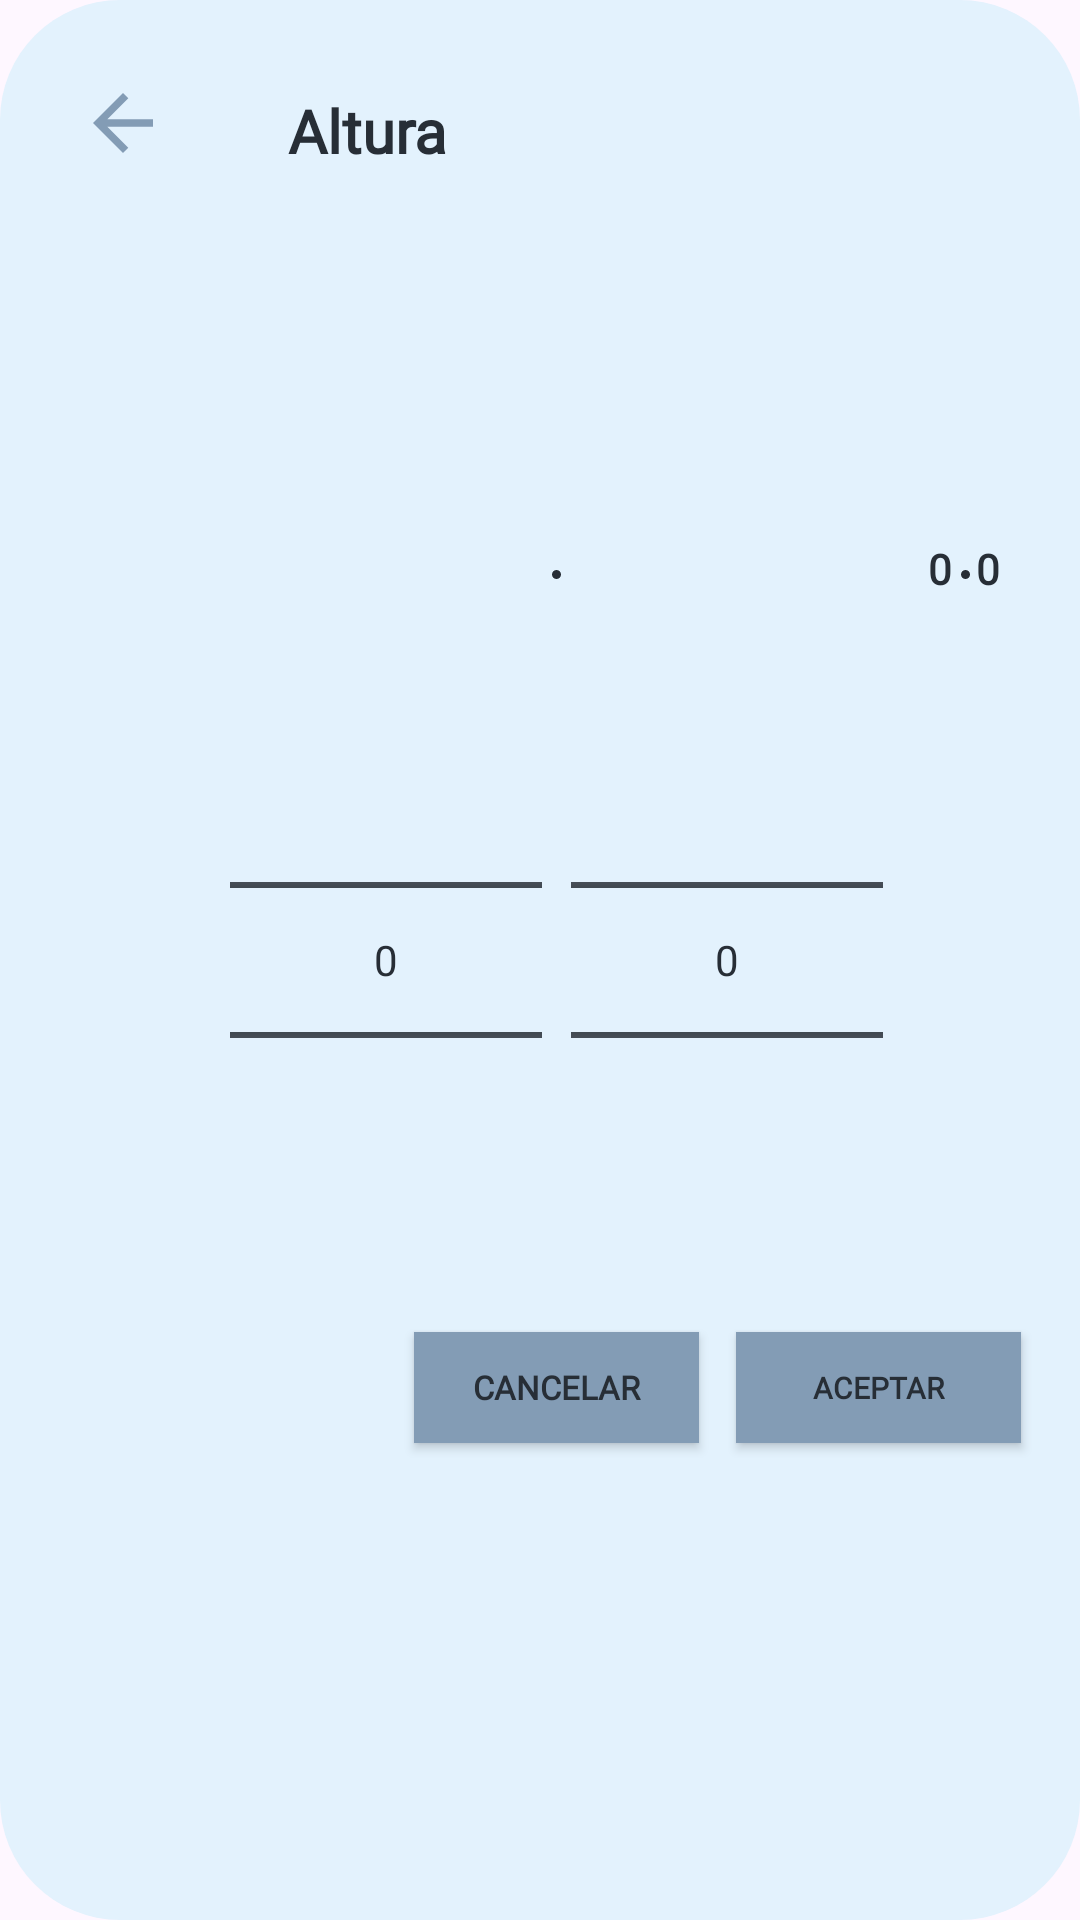

Locate icon controls on the screen. Image size 1080w x 1920h, boxes as (x1=x1, y1=y1, x2=x2, y2=y2).
back: (x1=93, y1=93, x2=153, y2=153)
